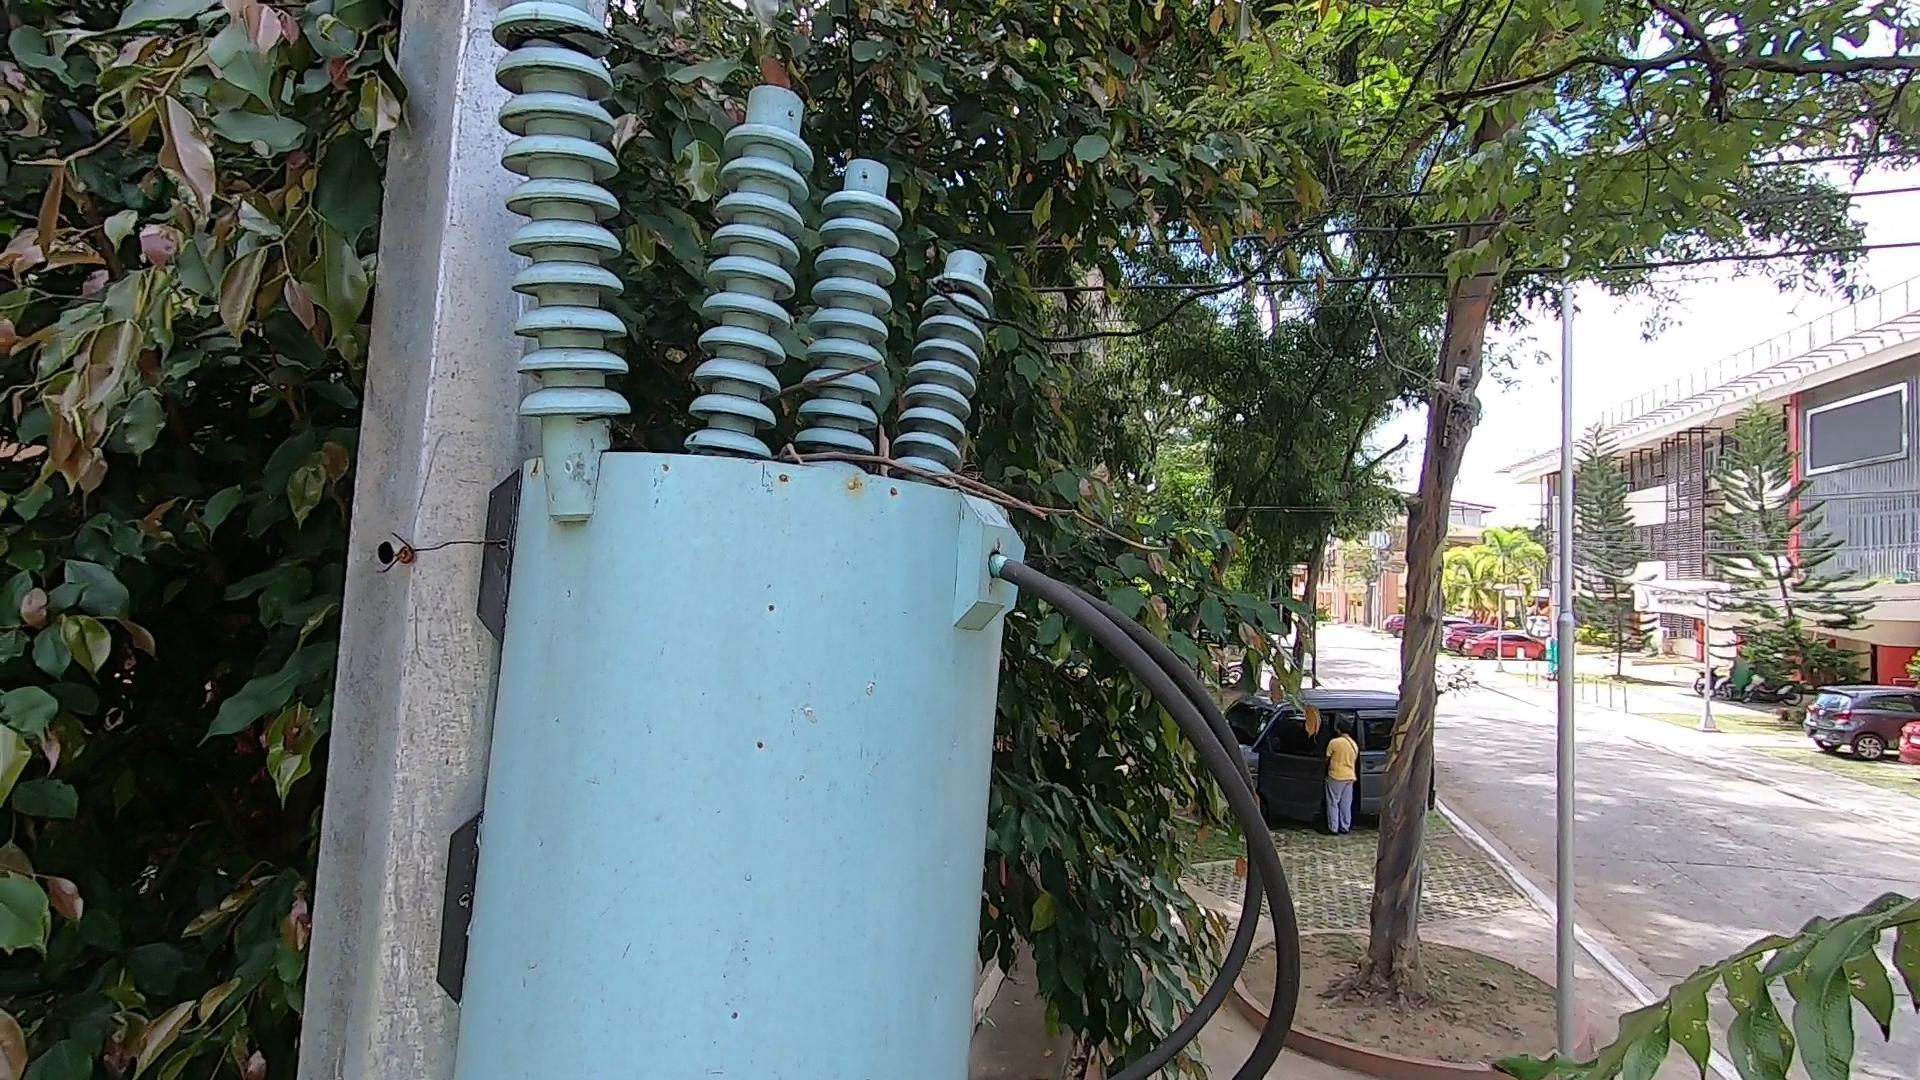tree branch: (746, 418, 1172, 556)
